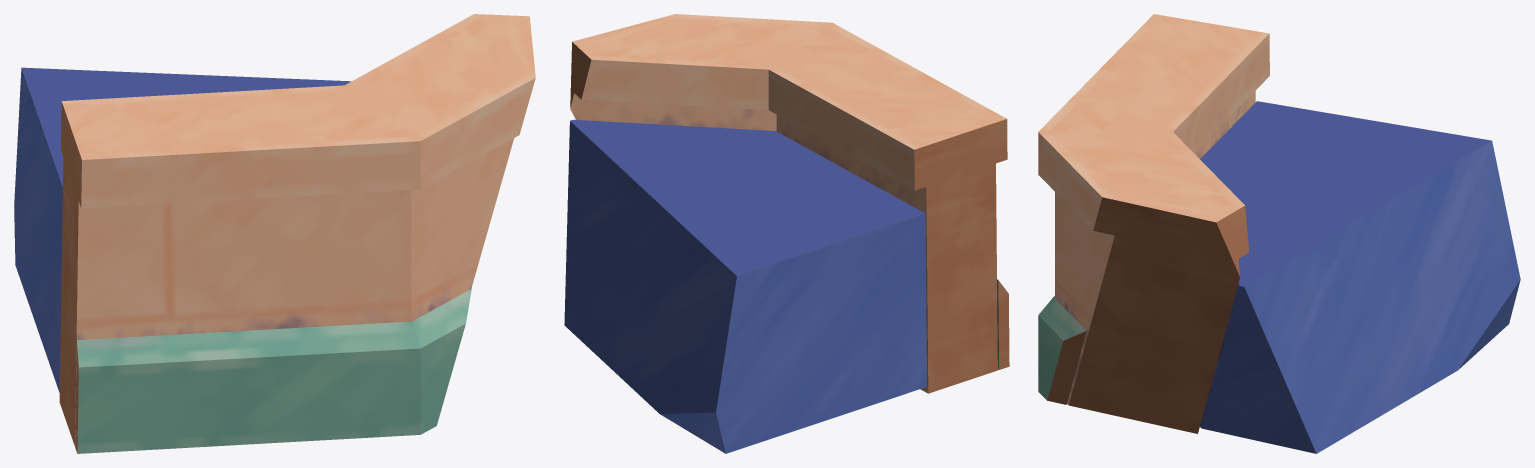
File: vat_indigo_s04.fbx
3 renders of one model, left to right at view 1: azimuth 30°, elevation 25°; view 2: azimuth 150°, elevation 25°; view 3: azimuth 270°, elevation 25°, orthographic. The views are drawn at different scales.
Parts seen in each view (by area): view 1: vat_indigo_s04; view 2: vat_indigo_s04; view 3: vat_indigo_s04.
Part boxes in pixels (<box>): vat_indigo_s04: <box>14,14,535,453</box>; vat_indigo_s04: <box>564,14,1009,453</box>; vat_indigo_s04: <box>1038,14,1520,453</box>.
Bounding box in the file's own units: 2.95 × 1.7 × 2.86.
